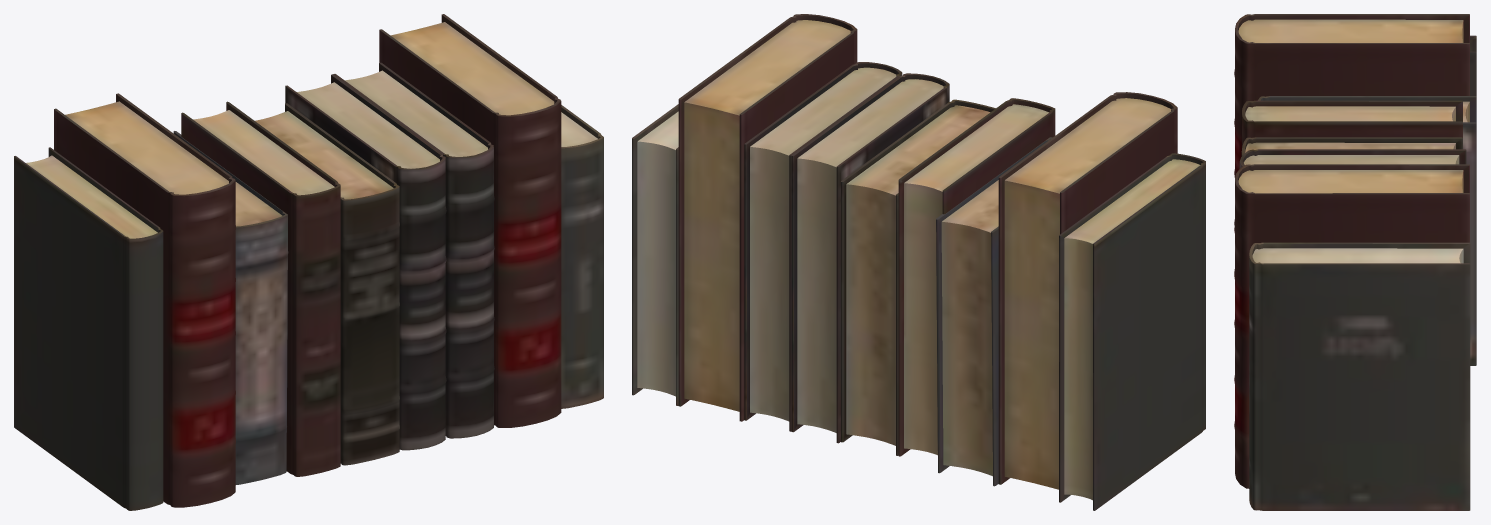
Rendered from SM_BooksSet04_ffa388.glb.
3 views of the same model, side by side, from view 1: azimuth 30°, elevation 25°; view 2: azimuth 150°, elevation 25°; view 3: azimuth 270°, elevation 25° (orthographic). The views are drawn at different scales.
Bounding box in the file's own units: 0.4757 × 0.2994 × 0.2229.
1 material, 1 textured.
